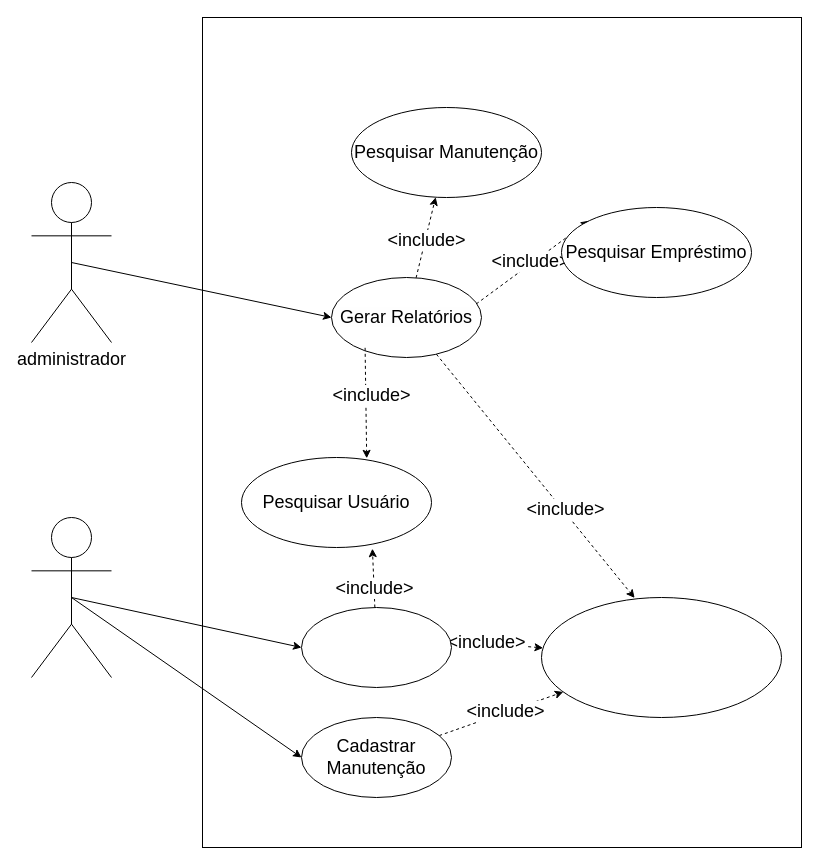
Some shapes in this 819 by 865 pixel diagram are drawn without their labels. The centre of each missing label's shape, as x and y in pixels:
"Cadastrar Empréstimo" belongs at pixel 376 647.
"estagiário" belongs at pixel 71 597.
"pesquisar equipamento/componente" belongs at pixel 661 657.
